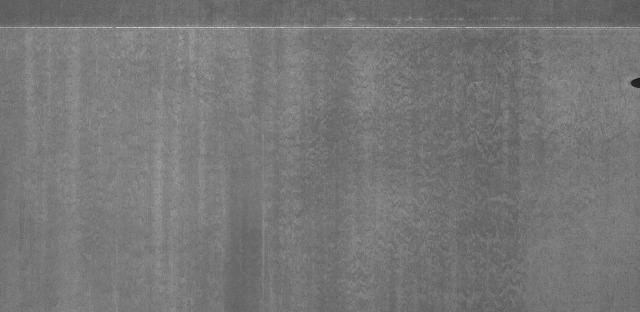punching_hole: (625, 73, 640, 89)
silk_spot: (16, 45, 590, 307)
welding_line: (0, 18, 640, 39)
